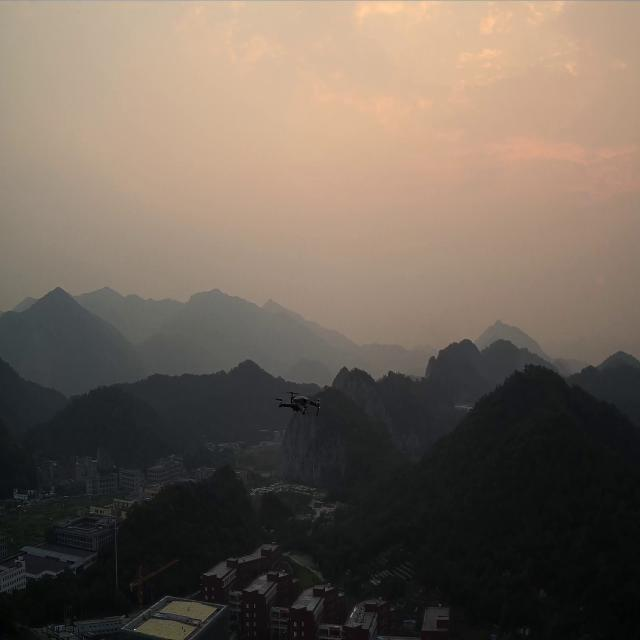UAV: (274, 390, 320, 417)
